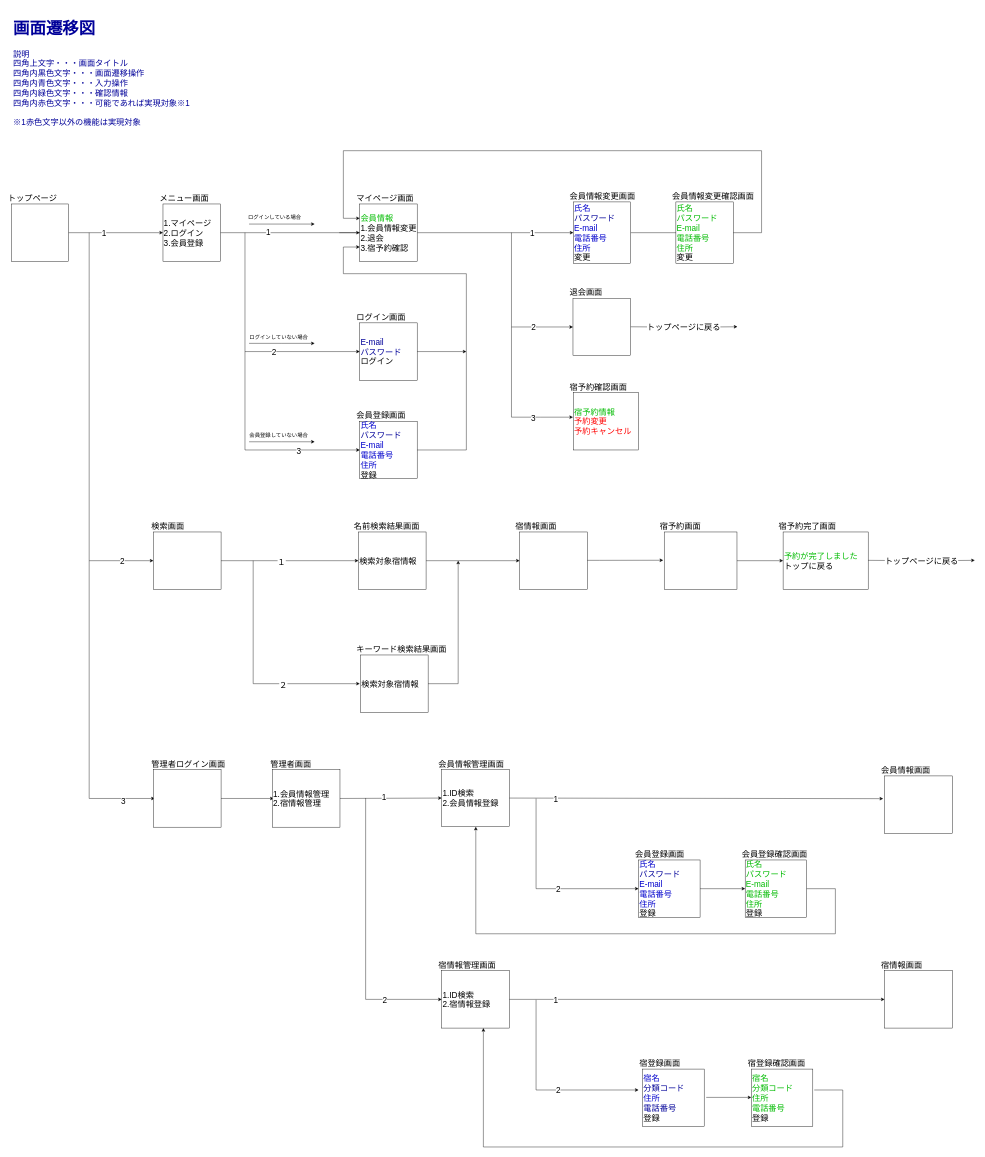
Image size: 985x1157. Some labels were removed from this diagram. Each missing label, with the centre of its shape:
"1.会員メニュー 2.検索 3.管理者画面" goes at pixel 40 232.
"1.名前検索 2. キーワード検索" goes at pixel 187 560.
"E-mail パスワード 退会" goes at pixel 601 327.
"予約選択 予約" goes at pixel 700 560.
"会員管理情報 1.会員情報変更 2.会員情報削除" goes at pixel 918 804.
"宿情報 空き状況の確認 宿予約" goes at pixel 553 560.
"宿管理情報 1.宿情報変更 2.宿情報削除" goes at pixel 918 999.
"管理者ID パスワード ログイン" goes at pixel 187 798.
